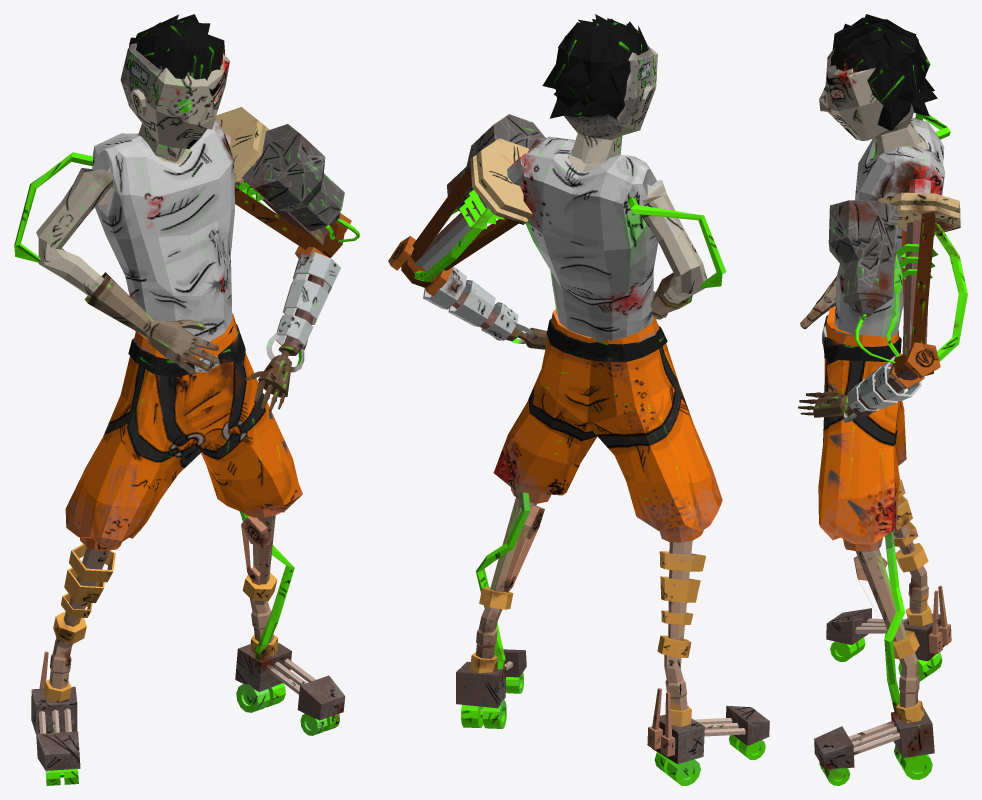
Rendered from CyborgFINALAnimation_000053.obj.
The picture shows the model from 3 angles, left to right: view 1: azimuth 30°, elevation 25°; view 2: azimuth 150°, elevation 25°; view 3: azimuth 270°, elevation 25°; orthographic projection. The views are drawn at different scales.
Parts seen in each view (by area): view 1: CyborgMesh_Cube.002; view 2: CyborgMesh_Cube.002; view 3: CyborgMesh_Cube.002.
Part boxes in pixels (x1=…): CyborgMesh_Cube.002: x1=14, y1=14, x2=359, y2=785; CyborgMesh_Cube.002: x1=388, y1=14, x2=769, y2=785; CyborgMesh_Cube.002: x1=798, y1=14, x2=967, y2=785.
Size of the model in its own units: 4.74 by 9.57 by 2.09.
